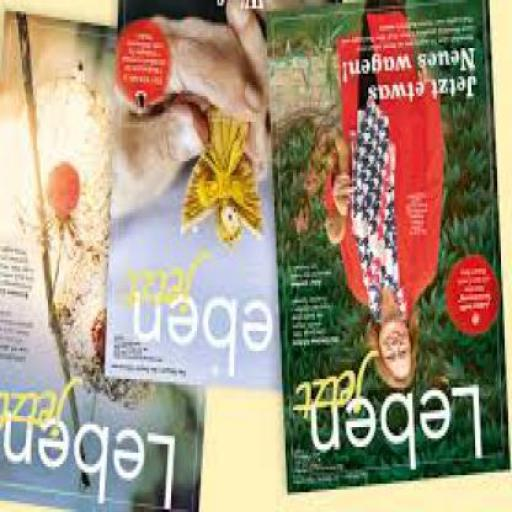paper: (267, 2, 511, 498), (2, 11, 210, 511), (107, 2, 286, 396)
